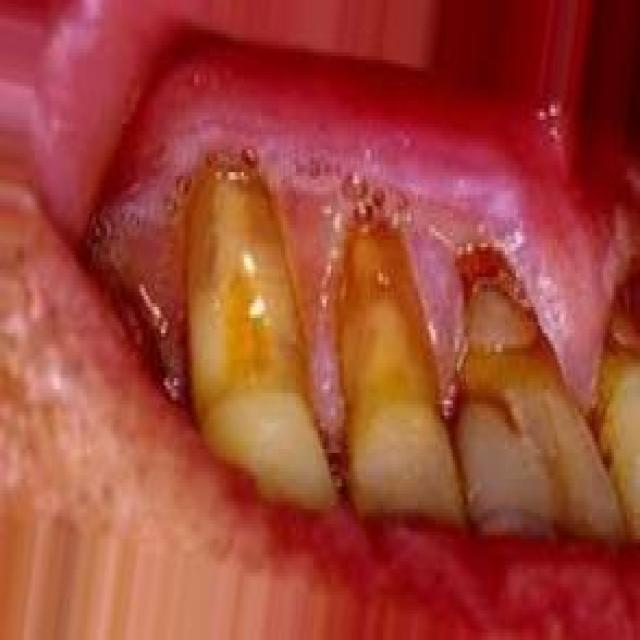caries: (452, 230, 566, 440)
